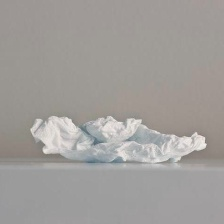tissue: (25, 109, 210, 168)
